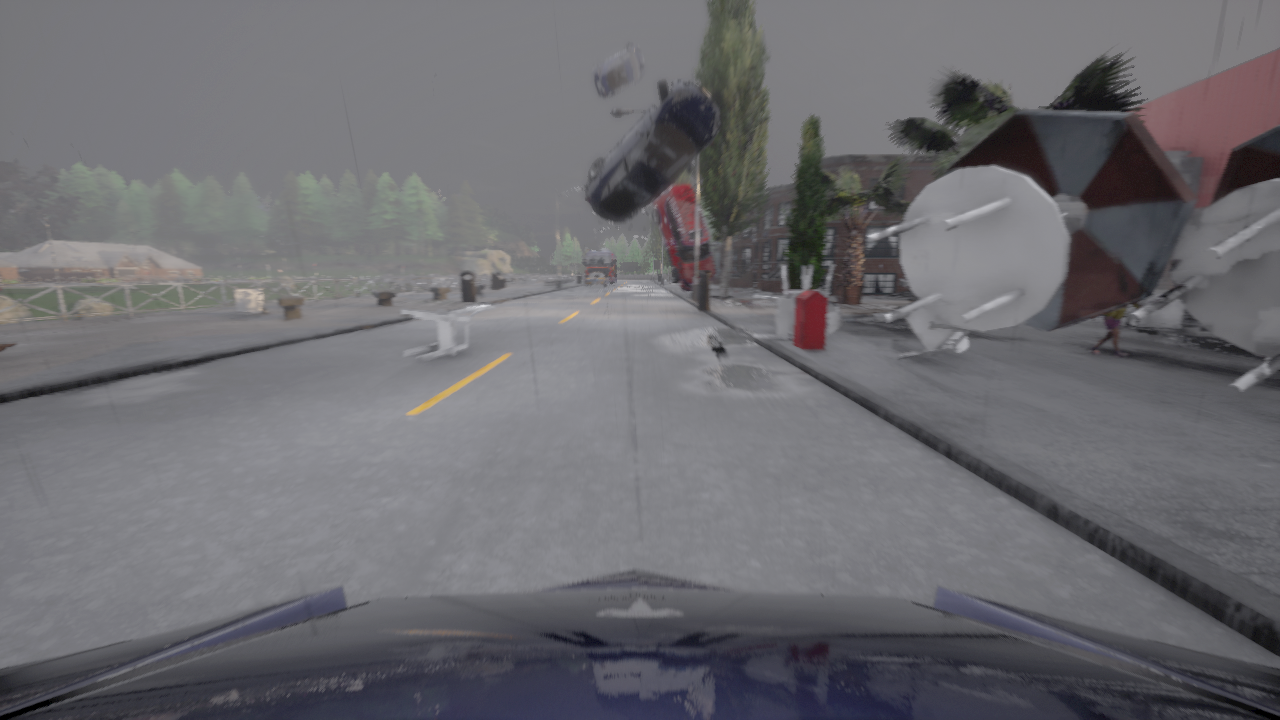cyclist: (0, 569, 1279, 719), (585, 79, 720, 223), (651, 183, 715, 290), (591, 42, 645, 98), (583, 248, 615, 284), (585, 270, 607, 287)
pedestrian: (1090, 302, 1141, 358)
